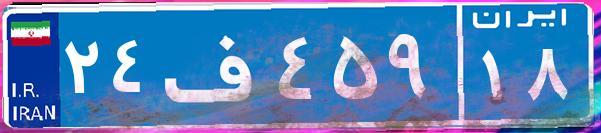1: (475, 38, 525, 113)
2: (57, 26, 110, 107)
4: (273, 28, 330, 110), (110, 28, 158, 105)
5: (330, 28, 385, 110)
8: (525, 38, 570, 115)
9: (385, 28, 445, 110)
ف: (158, 15, 273, 115)
